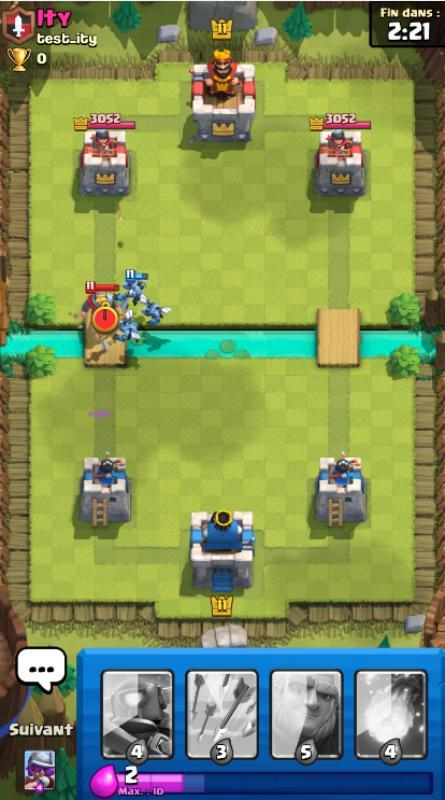chevalier: (80, 281, 128, 319)
gargouille: (114, 270, 148, 306), (139, 294, 172, 327), (112, 308, 140, 343)
